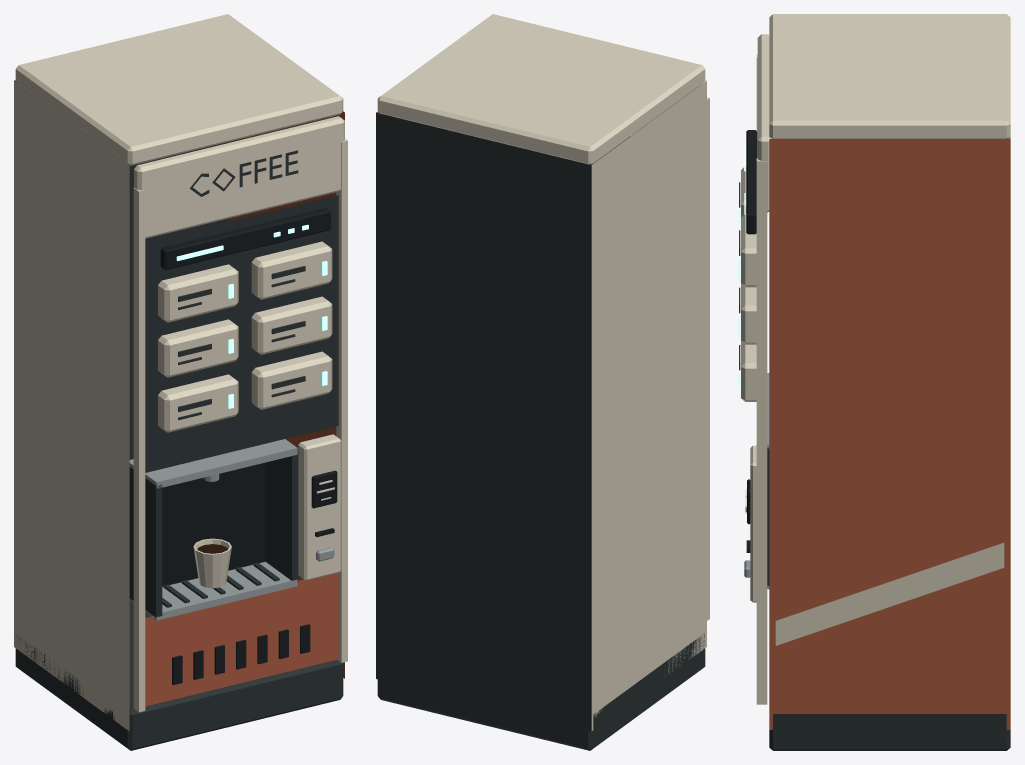
File: 02_coffee_vending_1_dented.glb
The picture shows the model from 3 angles, left to right: view 1: azimuth 30°, elevation 25°; view 2: azimuth 150°, elevation 25°; view 3: azimuth 270°, elevation 25°; orthographic projection. The views are drawn at different scales.
Visible parts, largest first — view 1: Cabinet, Front_Panels, Controls, Brand_Trim, Brew_Bay; view 2: Cabinet, Brand_Trim; view 3: Cabinet, Brand_Trim, Controls, Brew_Bay.
Part boxes in pixels (x1,y1,x2,y2): Cabinet: (14, 14, 344, 750); Front_Panels: (145, 195, 338, 706); Controls: (158, 207, 341, 580); Brand_Trim: (133, 116, 347, 712); Brew_Bay: (129, 439, 298, 620); Cabinet: (376, 14, 706, 750); Brand_Trim: (632, 79, 709, 620); Cabinet: (769, 14, 1010, 750); Brand_Trim: (756, 34, 1004, 704); Controls: (738, 130, 757, 602); Brew_Bay: (767, 373, 769, 589).
Bounding box in the file's own units: 0.8405 × 2.25 × 0.88.
2 materials, 1 textured.
